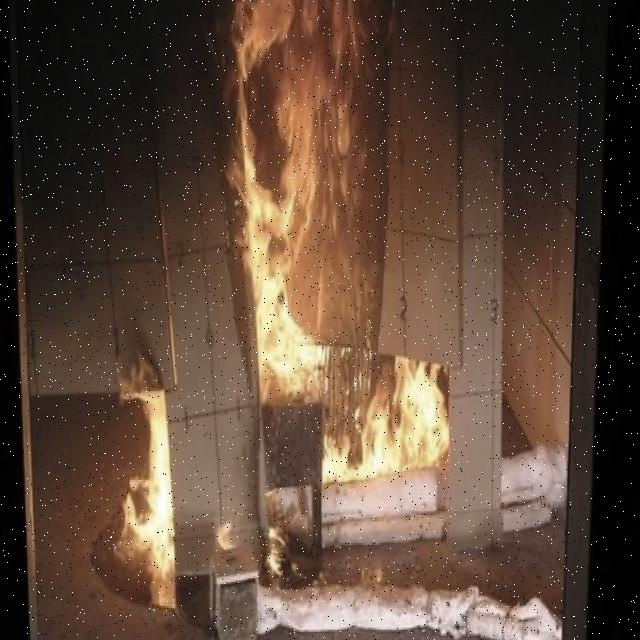fire: (243, 4, 442, 514), (123, 379, 185, 602)
